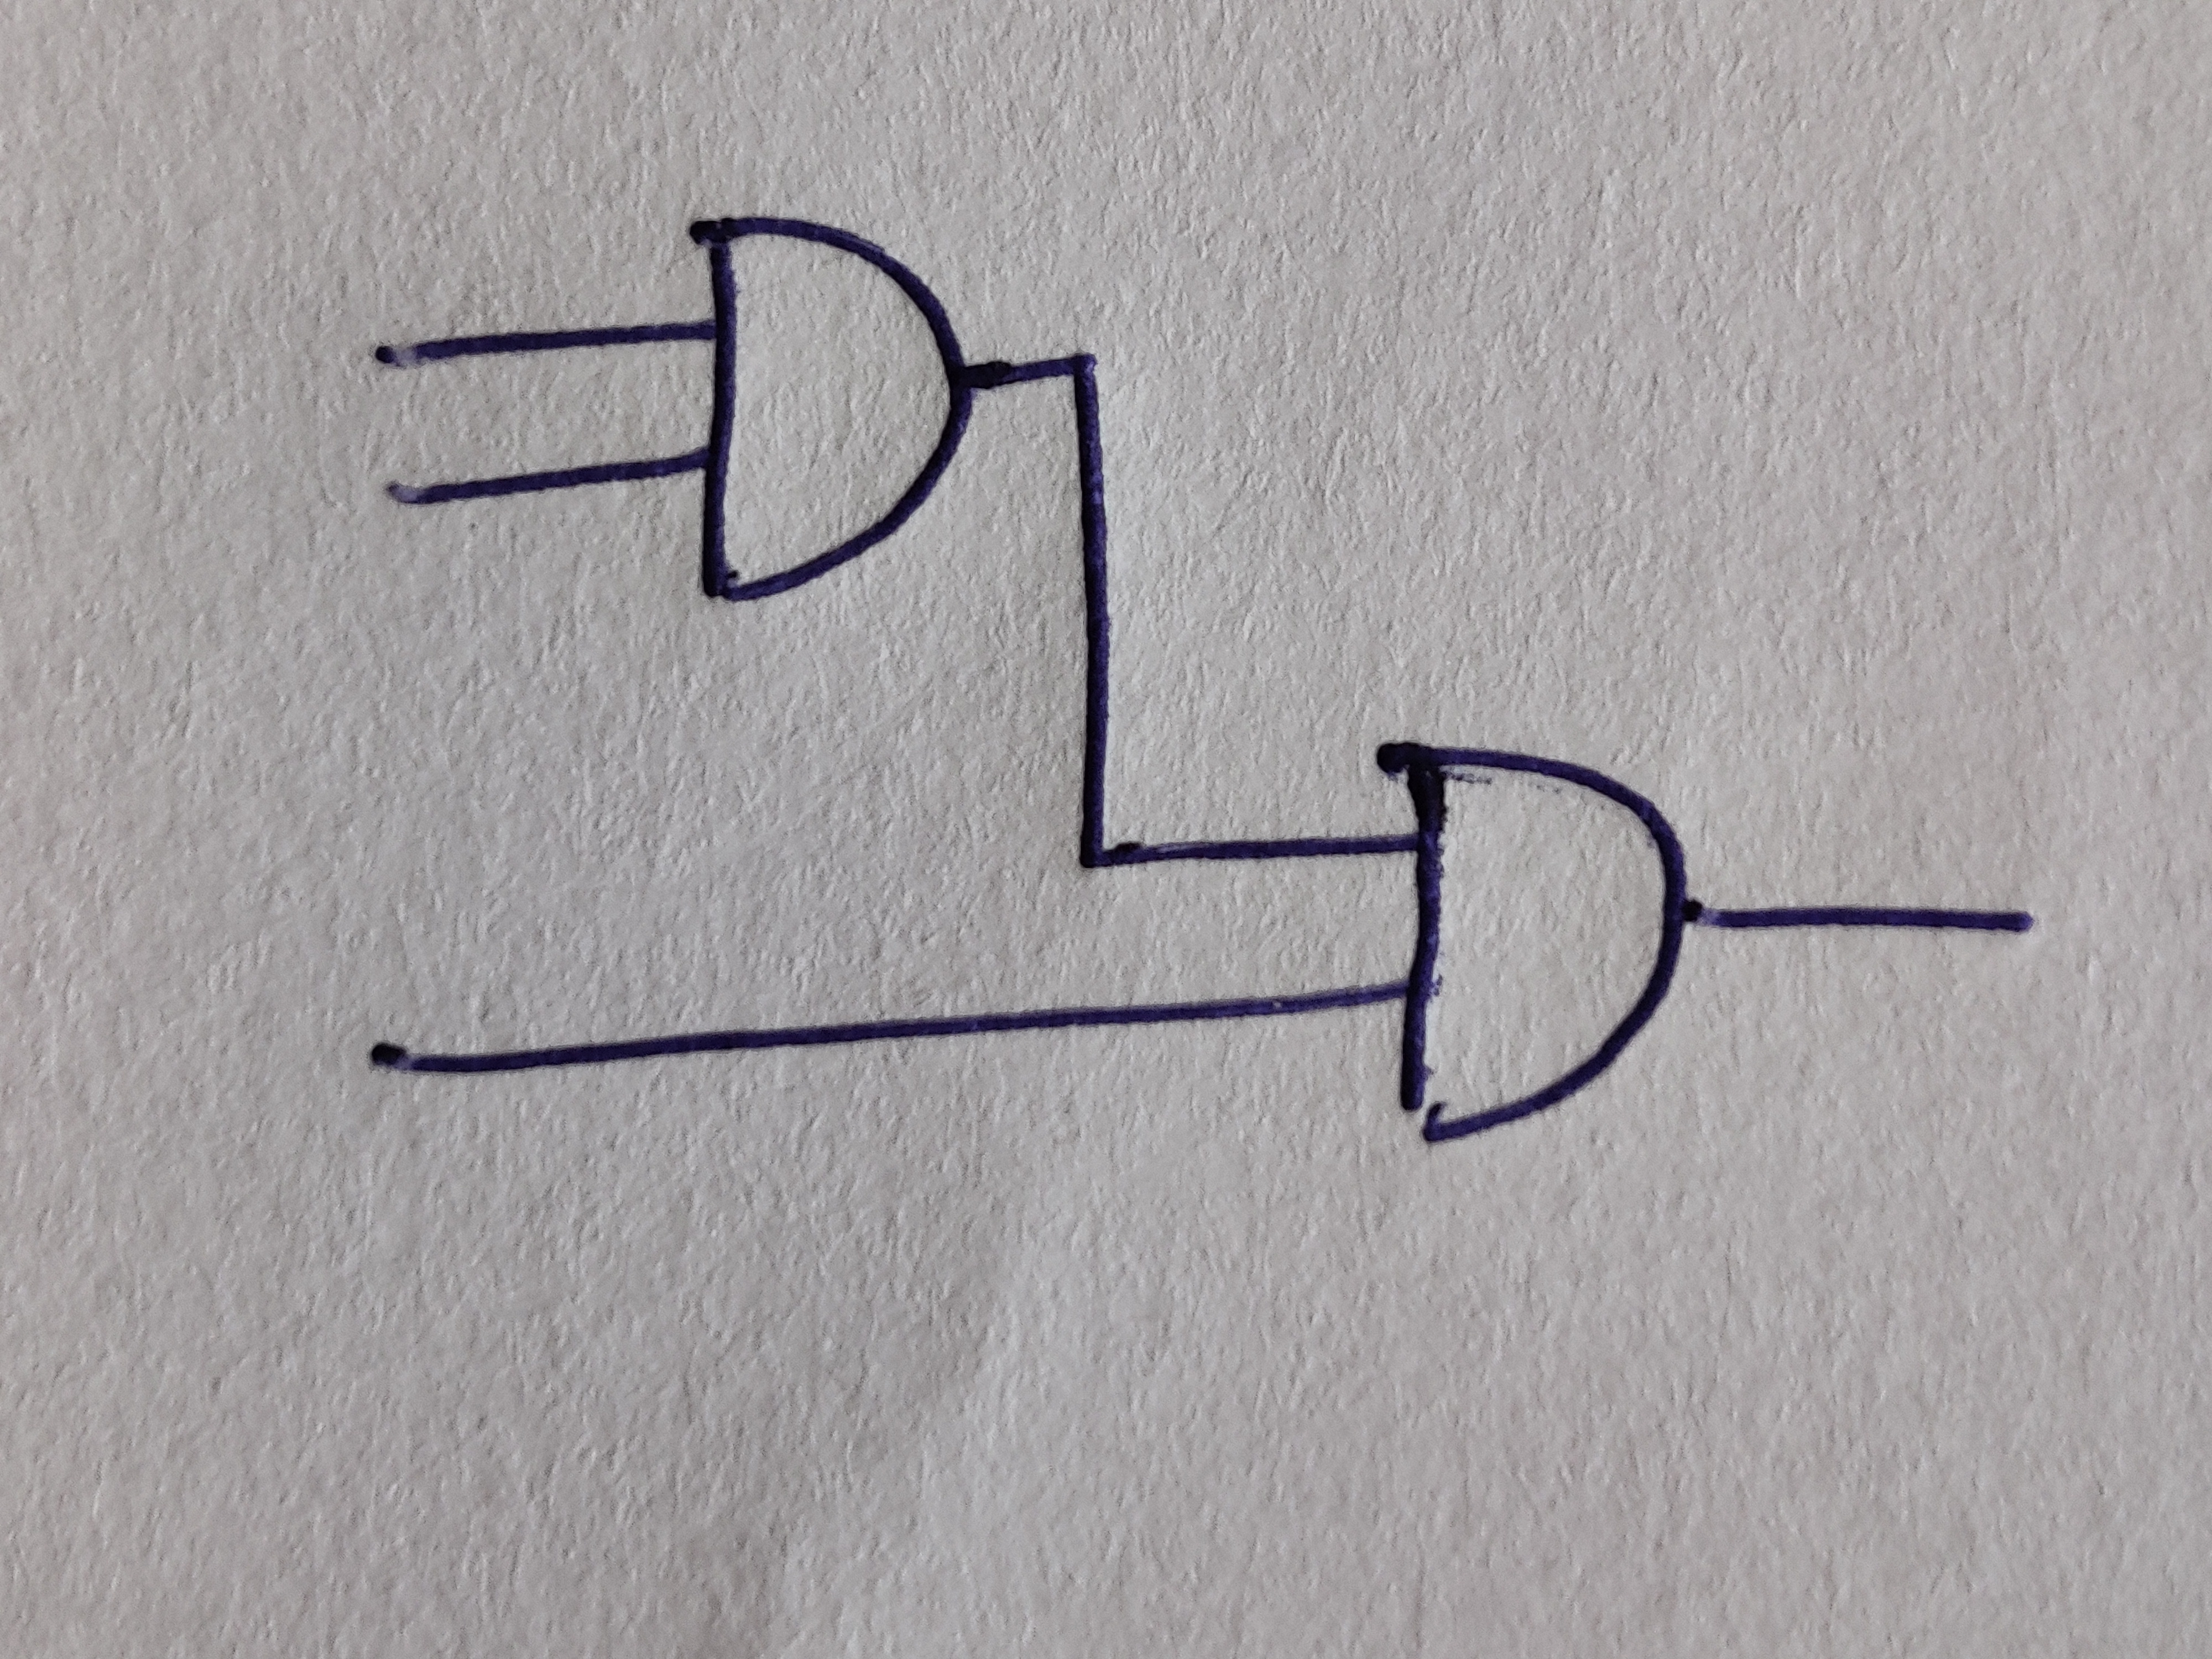and: (1400, 741, 1688, 1145), (690, 218, 972, 603)
